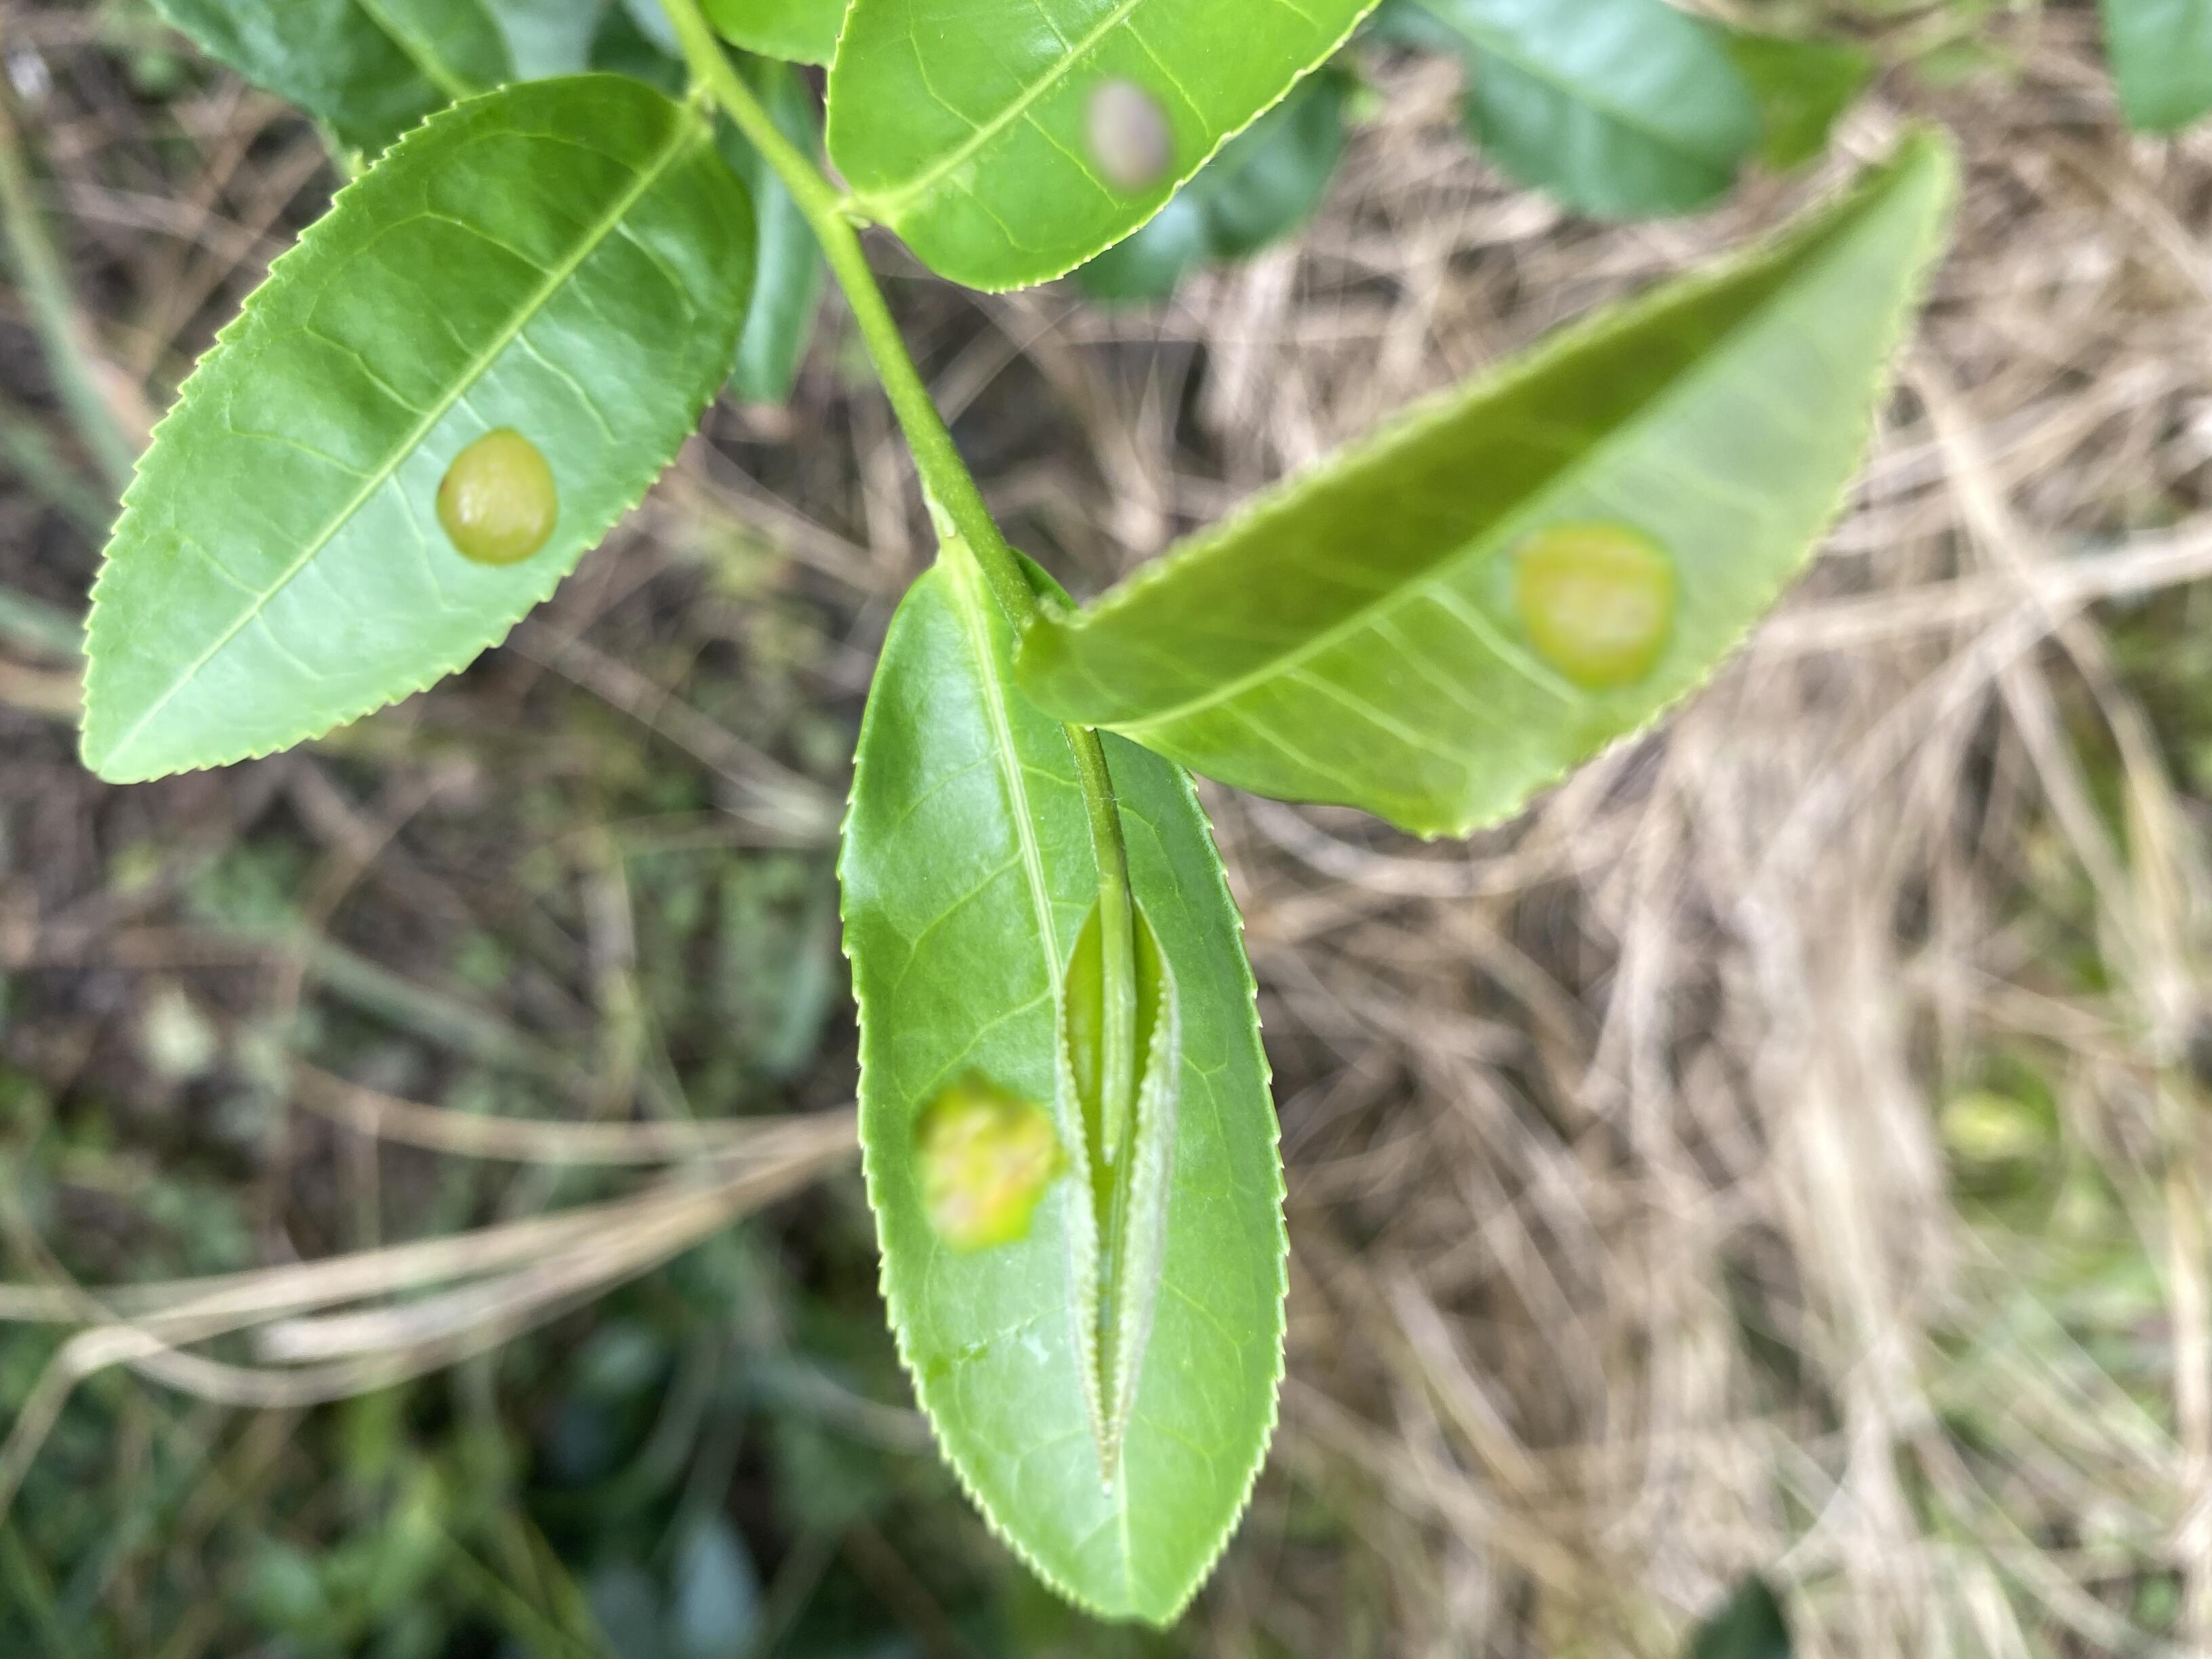chabing_low: (1010, 124, 1949, 847), (833, 544, 1292, 1631), (75, 70, 761, 784), (824, 2, 1379, 295)
